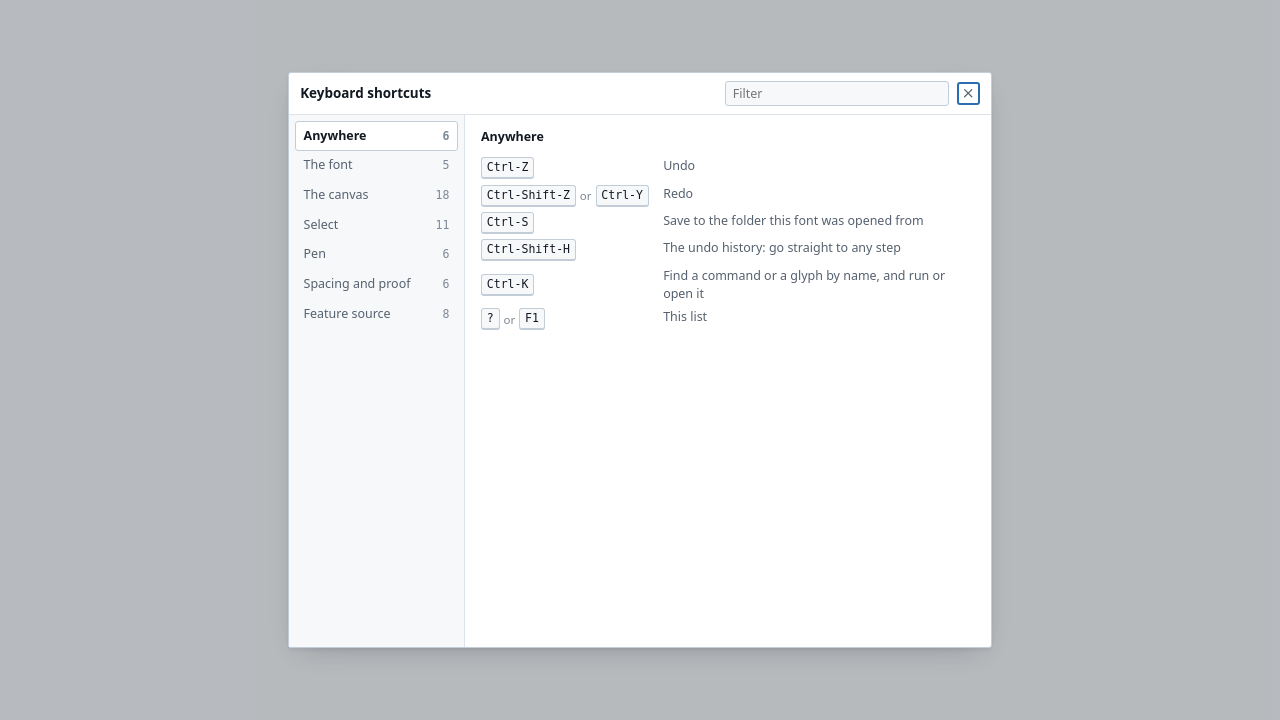
the sheet › says so when nothing matches at all
Type "xyzzy" into the search field named "Filter the shortcuts" at (837, 93), box left=725, top=81, right=949, bottom=106
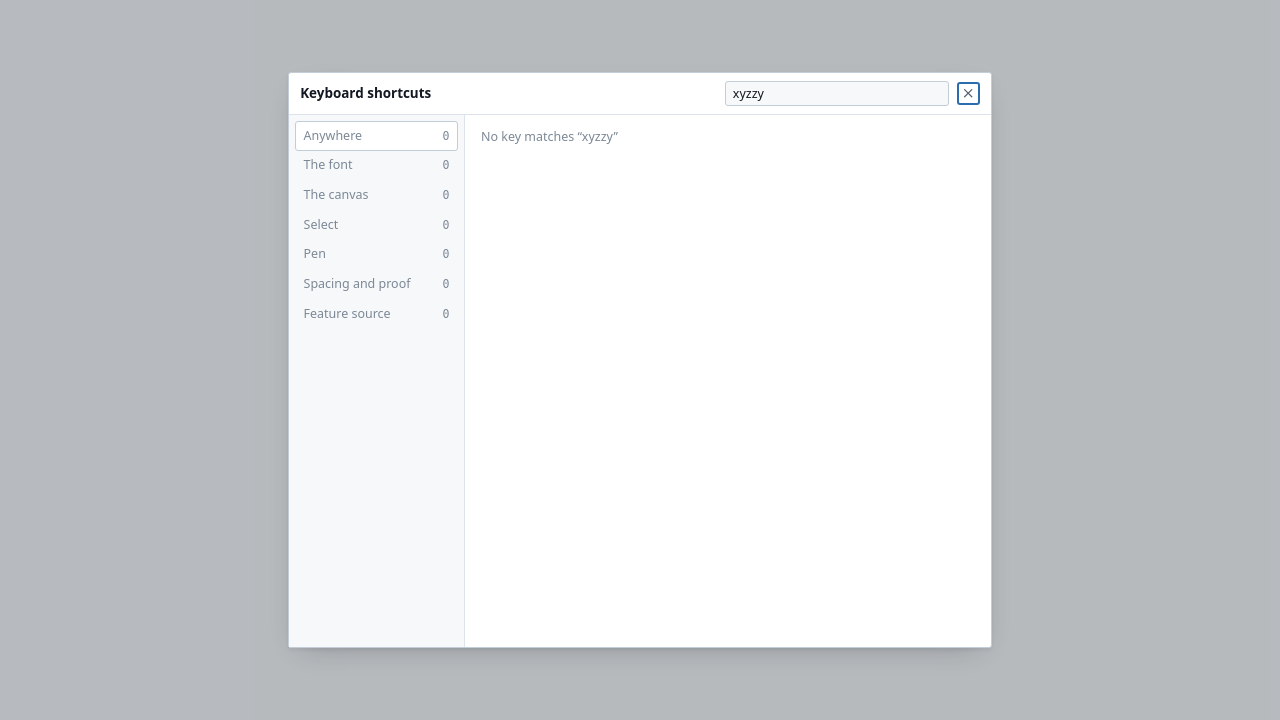
Result: the text "No key matches “xyzzy”" is shown at left=481, top=128, right=618, bottom=144
